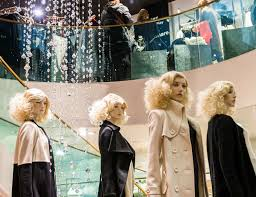person-like: (141, 69, 208, 197), (197, 79, 256, 196), (6, 85, 60, 197), (87, 90, 138, 197)
